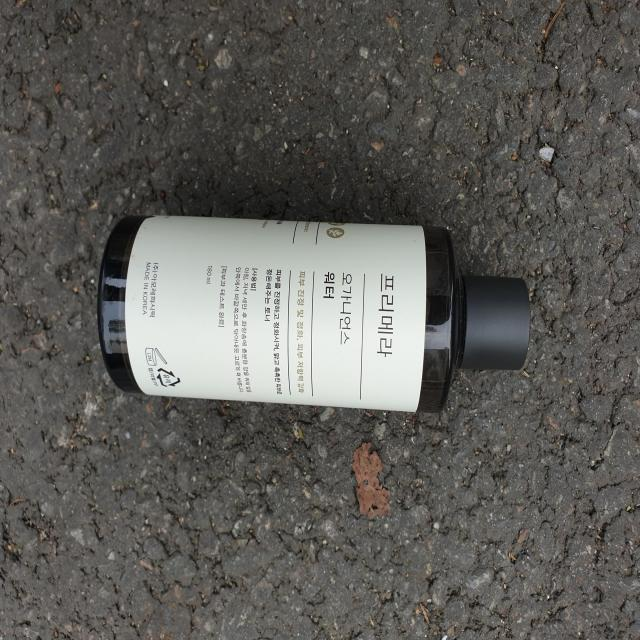glass: (97, 216, 530, 412)
